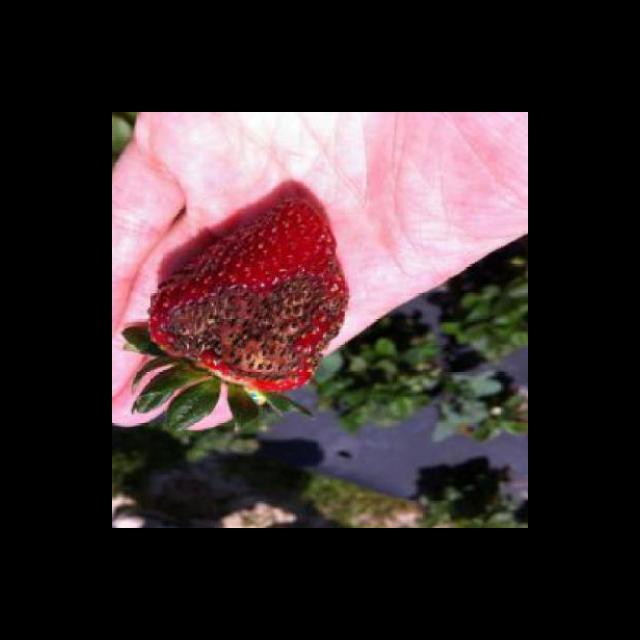Anthracnose Fruit Rot: (146, 252, 351, 392)
